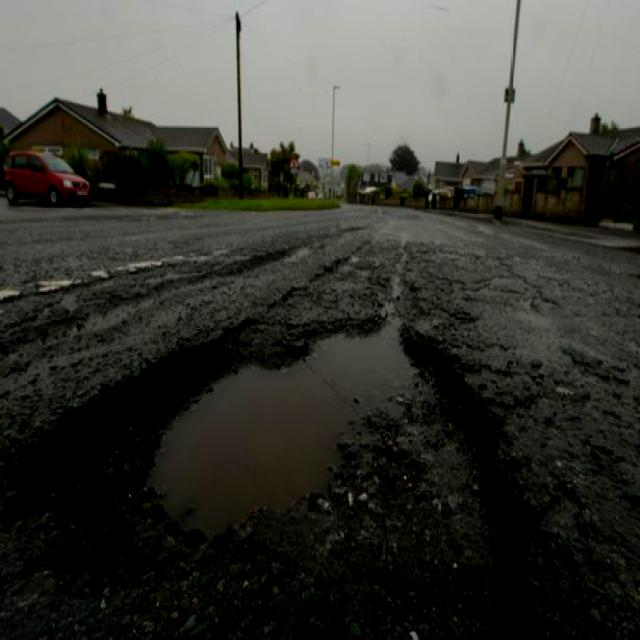Pothole: (0, 232, 528, 640)
